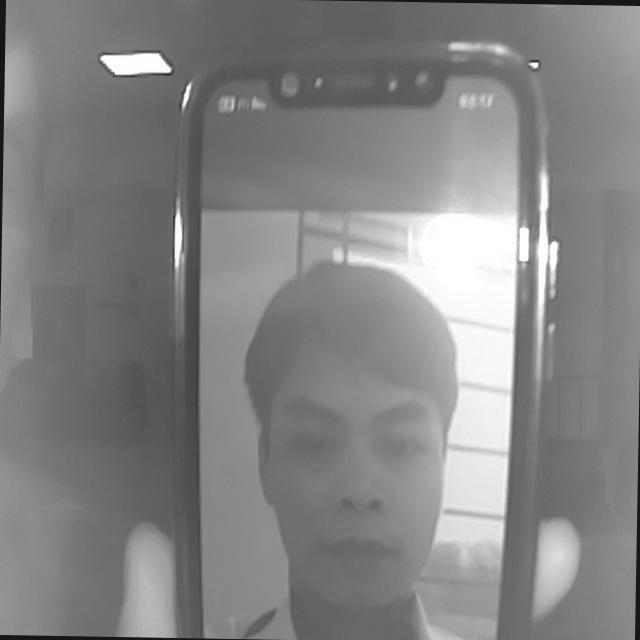fake: (166, 38, 547, 635)
